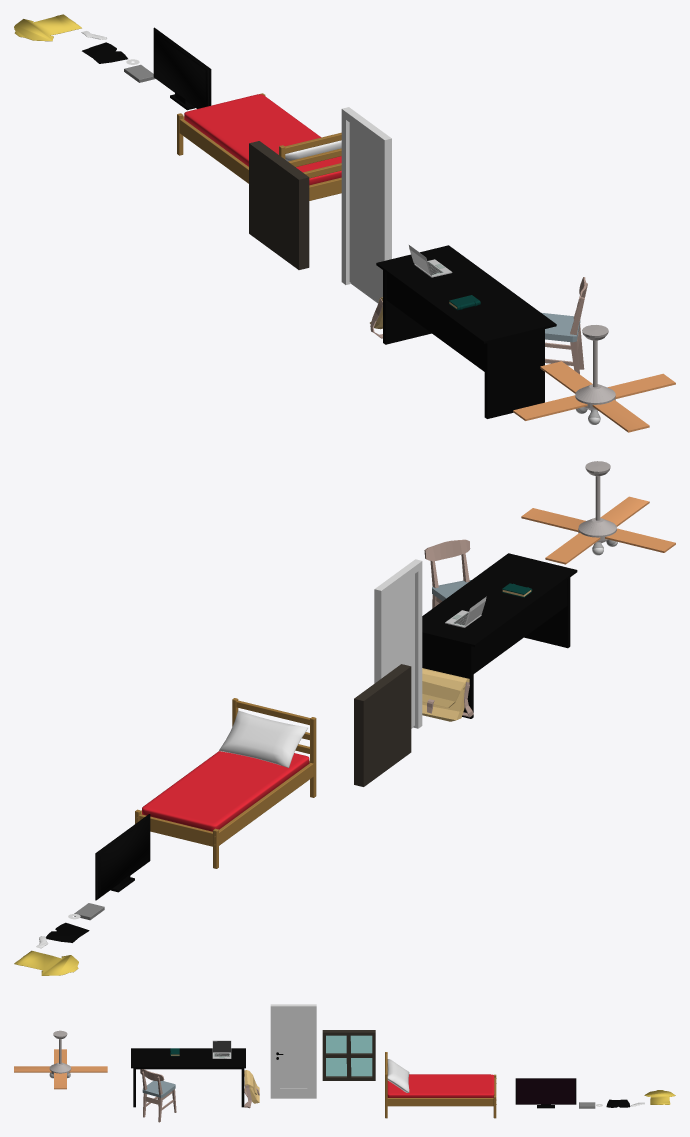
Rendered from CuartoKevin.fbx.
3 renders of one model, top to bottom at view 1: azimuth 30°, elevation 25°; view 2: azimuth 150°, elevation 25°; view 3: azimuth 270°, elevation 25°, orthographic. The views are drawn at different scales.
Parts seen in each view (by area): view 1: Escritorio, cama, puerta, ventana, ventilador, television, silla, remera; view 2: cama, Escritorio, puerta, ventana, ventilador, television, bolso.001, silla, remera; view 3: puerta, cama, ventana, Escritorio, television, ventilador, silla, bolso.001, notebook, remera.
Part boxes in pixels (x1,y1,x2,y2): Escritorio: (376,245,556,418); cama: (177,93,341,200); puerta: (341,107,391,303); ventana: (249,141,309,269); ventilador: (513,325,675,432); television: (153,27,211,110); silla: (541,277,587,374); remera: (14,14,81,41); cama: (135,698,316,868); Escritorio: (422,553,577,718); puerta: (374,559,422,728); ventana: (354,664,411,786); ventilador: (521,461,675,564); television: (95,814,150,900); bolso.001: (422,668,473,721); silla: (424,539,471,608); remera: (14,950,78,975); puerta: (270,1004,316,1098); cama: (385,1052,496,1118); ventana: (322,1030,375,1080); Escritorio: (131,1048,245,1107); television: (515,1078,576,1108); ventilador: (14,1030,107,1089); silla: (140,1069,176,1122); bolso.001: (244,1070,259,1108); notebook: (212,1040,231,1058); remera: (644,1090,675,1104).
Bounding box in the file's own units: 188 × 197 × 1249.
